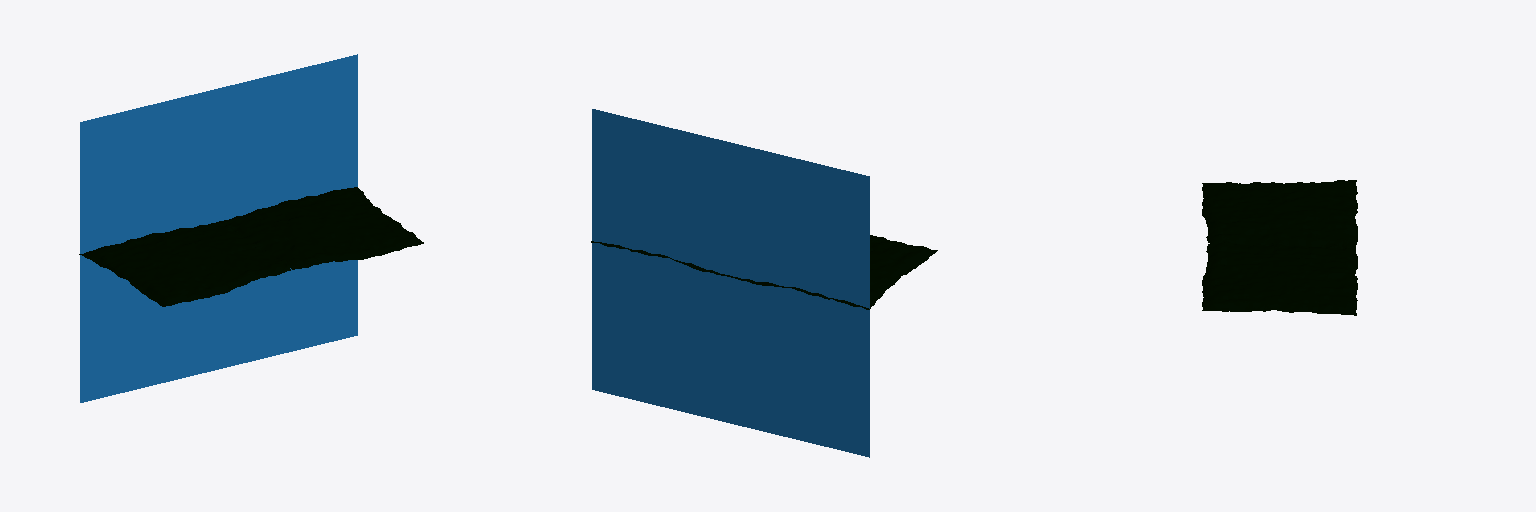
File: backgroud_grass_sky.obj
The picture shows the model from 3 angles: view 1: azimuth 30°, elevation 25°; view 2: azimuth 150°, elevation 25°; view 3: azimuth 270°, elevation 25°; orthographic projection.
Visible parts, largest first — view 1: Sky_Plane.001, Grass_Plane; view 2: Sky_Plane.001, Grass_Plane; view 3: Grass_Plane.
Part boxes in pixels (x1,y1,x2,y2): Sky_Plane.001: (80,54,357,402); Grass_Plane: (79,187,423,306); Sky_Plane.001: (592,109,869,457); Grass_Plane: (591,235,937,309); Grass_Plane: (1202,180,1357,315).
Size of the model in its own units: 44.28 by 42.66 by 21.56.